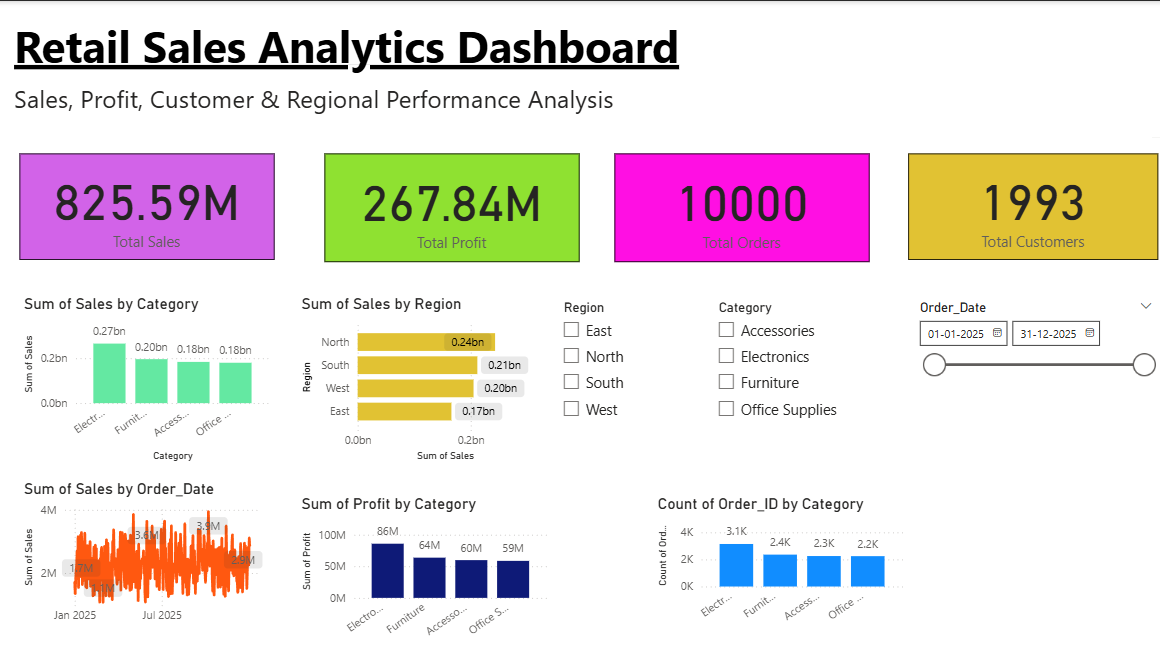

Layout of this report page (visuals, bound fields, positions):
{"tool":"powerbi","page":{"name":"Executive Overview","canvas":[1280,720],"ordinal":0},"visuals":[{"type":"card","fields":{"Values":["retail_cleaned.Total Sales"]},"box":[24.7,167.4,279.9,116.6],"z":0},{"type":"card","fields":{"Values":["retail_cleaned.Total Profit"]},"box":[359.5,167.4,279.9,119.4],"z":1},{"type":"card","fields":{"Values":["retail_cleaned.Total Orders"]},"box":[677.9,167.4,279.9,119.4],"z":2},{"type":"card","fields":{"Values":["retail_cleaned.Total Customers"]},"box":[1000.3,167.4,274.4,116.6],"z":3},{"type":"clusteredColumnChart","fields":{"Category":["retail_cleaned.Category"],"Y":["Sum(retail_cleaned.Sales)"]},"box":[24.7,322.5,279.9,188],"z":4},{"type":"clusteredBarChart","fields":{"Category":["retail_cleaned.Region"],"Y":["Sum(retail_cleaned.Sales)"]},"box":[329.3,322.5,279.9,188],"z":5},{"type":"lineChart","fields":{"Category":["retail_cleaned.Order_Date"],"Y":["Sum(retail_cleaned.Sales)"]},"box":[24.7,525.6,279.9,167.4],"z":6},{"type":"clusteredColumnChart","fields":{"Category":["retail_cleaned.Category"],"Y":["Sum(retail_cleaned.Profit)"]},"box":[329.3,542,279.9,167.4],"z":7},{"type":"clusteredColumnChart","fields":{"Category":["retail_cleaned.Category"],"Y":["CountNonNull(retail_cleaned.Order_ID)"]},"box":[720.4,542,279.9,150.9],"z":8},{"type":"slicer","fields":{"Values":["retail_cleaned.Region"]},"box":[609.3,322.5,279.9,188],"z":9},{"type":"slicer","fields":{"Values":["retail_cleaned.Category"]},"box":[779.4,322.5,279.9,188],"z":10},{"type":"slicer","fields":{"Values":["retail_cleaned.Order_Date"]},"box":[1000.3,322.5,279.9,188],"z":11},{"type":"textbox","box":[1000,542,280,151],"z":12},{"type":"textbox","box":[13.7,11,1003.1,115.3],"z":13},{"type":"textbox","box":[13.7,83.7,1266.6,65.9],"z":14},{"type":"qnaVisual","box":[1267.9,0,12.3,149.6],"z":15}]}

Visuals, with their boxes in screenshot pixels (x1, y1, x2, y2), scaled from the page's 1280x720 canvas onto the 1160x652 screenshot:
card - retail_cleaned.Total Sales: <bbox>22, 152, 276, 257</bbox>
card - retail_cleaned.Total Profit: <bbox>326, 152, 579, 260</bbox>
card - retail_cleaned.Total Orders: <bbox>614, 152, 868, 260</bbox>
card - retail_cleaned.Total Customers: <bbox>907, 152, 1155, 257</bbox>
clusteredColumnChart - retail_cleaned.Category x Sum(retail_cleaned.Sales): <bbox>22, 292, 276, 462</bbox>
clusteredBarChart - retail_cleaned.Region x Sum(retail_cleaned.Sales): <bbox>298, 292, 552, 462</bbox>
lineChart - retail_cleaned.Order_Date x Sum(retail_cleaned.Sales): <bbox>22, 476, 276, 628</bbox>
clusteredColumnChart - retail_cleaned.Category x Sum(retail_cleaned.Profit): <bbox>298, 491, 552, 642</bbox>
clusteredColumnChart - retail_cleaned.Category x CountNonNull(retail_cleaned.Order_ID): <bbox>653, 491, 907, 627</bbox>
slicer - retail_cleaned.Region: <bbox>552, 292, 806, 462</bbox>
slicer - retail_cleaned.Category: <bbox>706, 292, 960, 462</bbox>
slicer - retail_cleaned.Order_Date: <bbox>907, 292, 1159, 462</bbox>
textbox: <bbox>906, 491, 1159, 628</bbox>
textbox: <bbox>12, 10, 921, 114</bbox>
textbox: <bbox>12, 76, 1159, 135</bbox>
qnaVisual: <bbox>1149, 0, 1159, 135</bbox>
